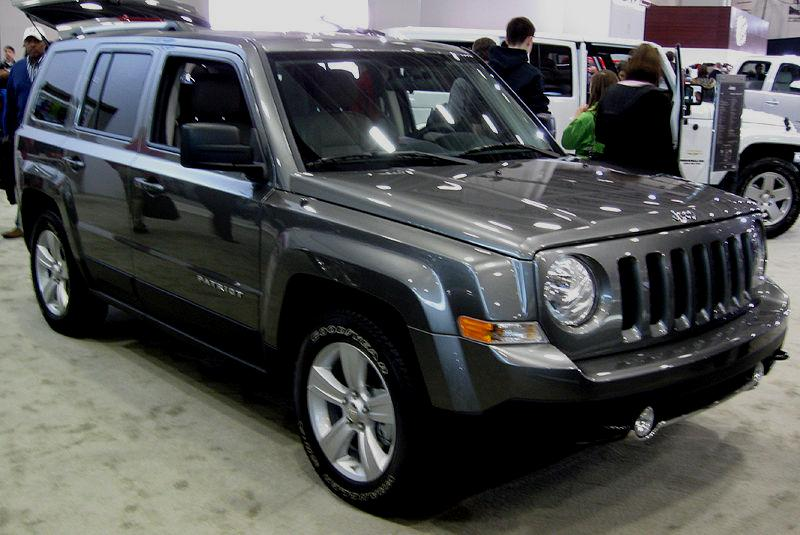jeep: (660, 198, 712, 236)
